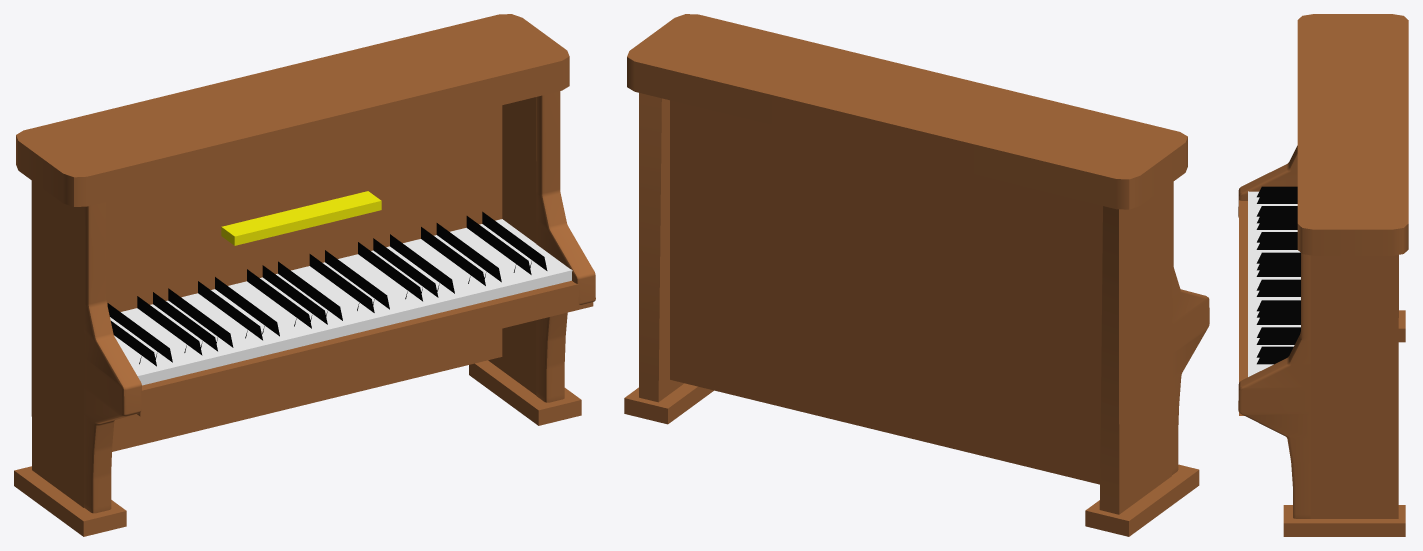
The model's file is gangqin.fbx.
3 views of the same model, side by side, from view 1: azimuth 30°, elevation 25°; view 2: azimuth 150°, elevation 25°; view 3: azimuth 270°, elevation 25° (orthographic). The views are drawn at different scales.
Parts seen in each view (by area): view 1: polySurface95, polySurface101, polySurface122, polySurface100, polySurface119; view 2: polySurface95; view 3: polySurface95, polySurface122, polySurface101, polySurface100.
Part boxes in pixels (x1,y1,x2,y2): polySurface95: (14,14,595,536); polySurface101: (110,219,572,385); polySurface122: (107,211,547,366); polySurface100: (137,280,593,416); polySurface119: (221,191,381,245); polySurface95: (624,14,1209,536); polySurface95: (1238,14,1408,536); polySurface122: (1256,186,1300,364); polySurface101: (1248,191,1300,376); polySurface100: (1239,200,1247,415).
Size of the model in its own units: 3 by 1 by 2.
